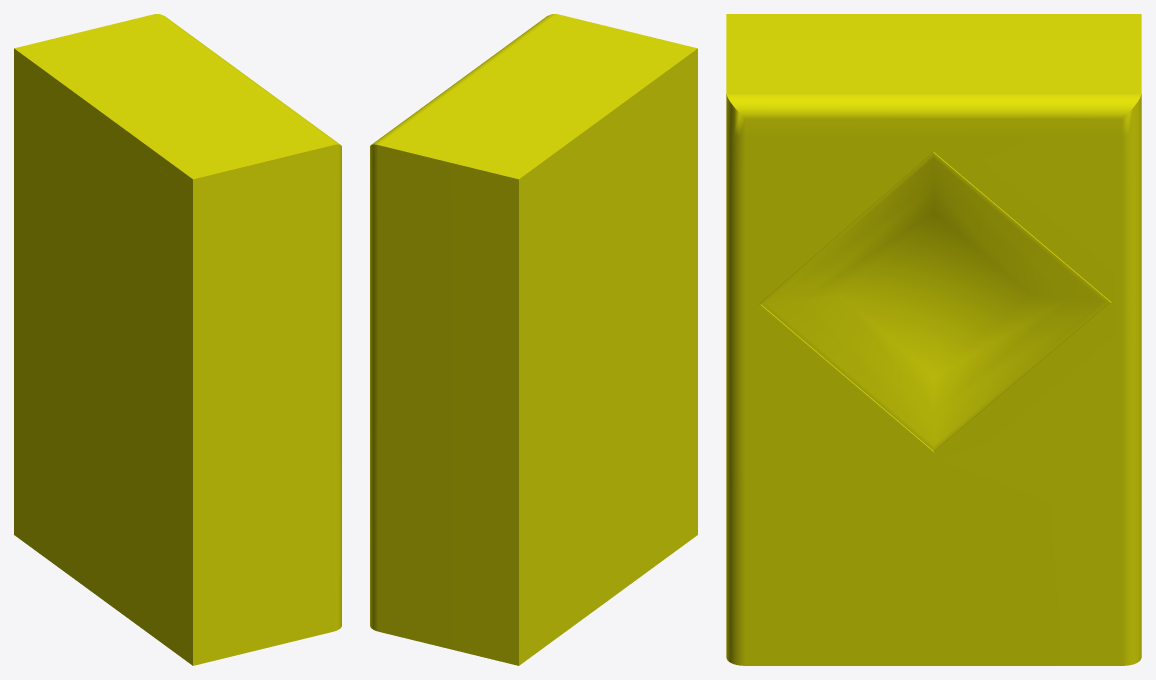
The model's file is CatchMoney.fbx.
3 views of the same model, side by side, from view 1: azimuth 30°, elevation 25°; view 2: azimuth 150°, elevation 25°; view 3: azimuth 270°, elevation 25° (orthographic). The views are drawn at different scales.
Parts seen in each view (by area): view 1: pCube1; view 2: pCube1; view 3: pCube1.
Boxes of the visible parts, x1,y1,x2,y2 form: pCube1: [14, 14, 341, 665]; pCube1: [370, 14, 697, 665]; pCube1: [726, 14, 1141, 665].
Size of the model in its own units: 10.11 by 30 by 20.
